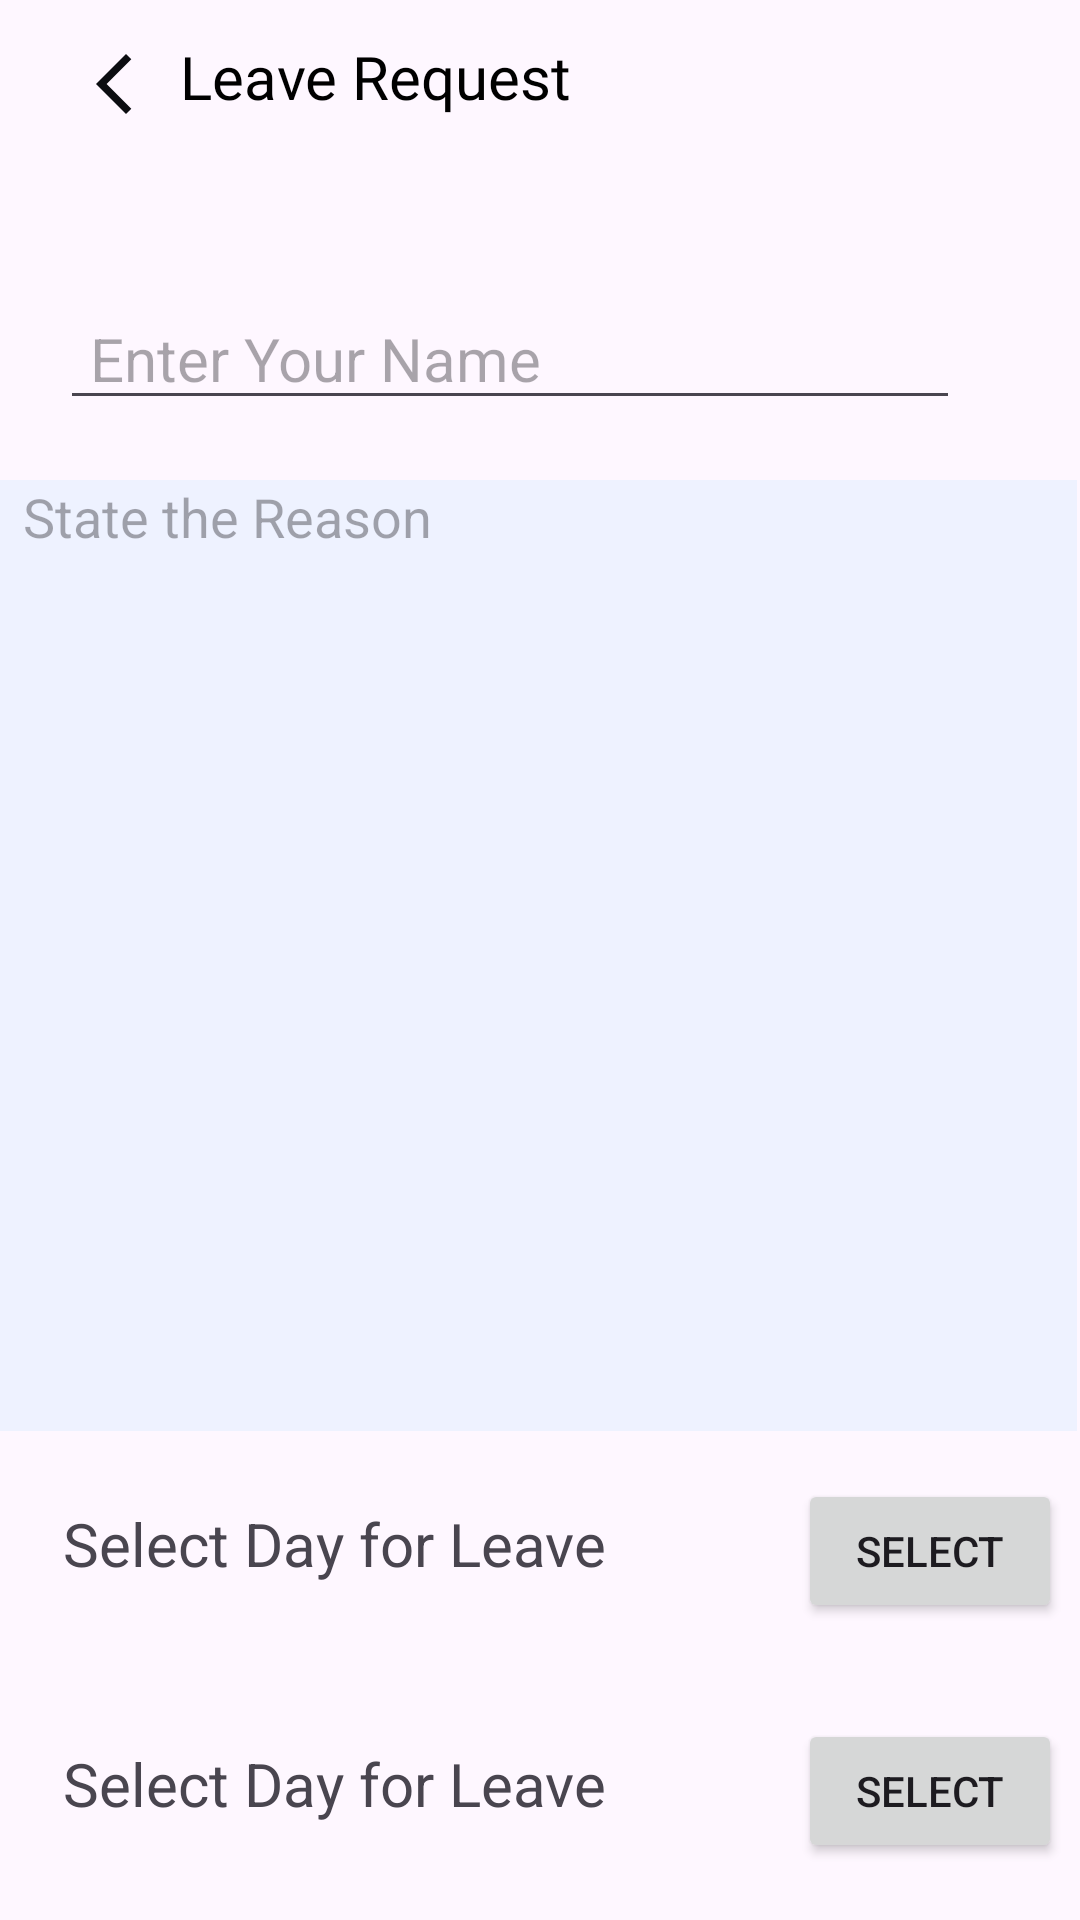

Screen size 1080w x 1920h. Icon name, then its box in pixels as (x1, y1, x2, y2):
arrow back: (96, 54, 131, 114)
